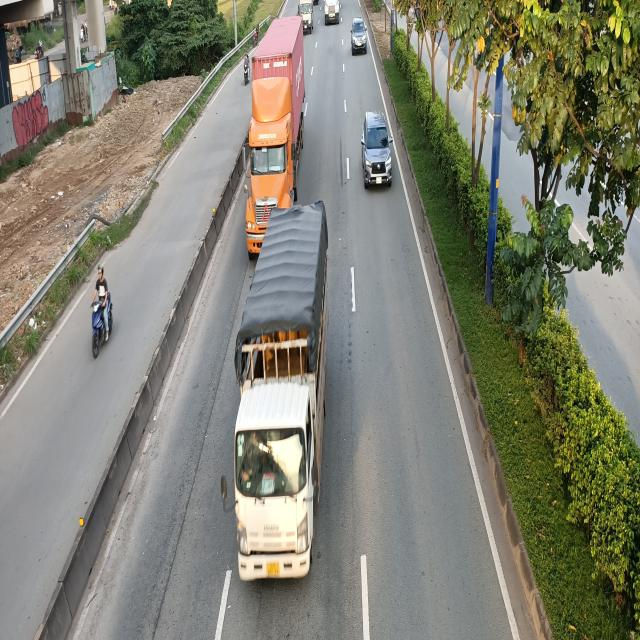car: (360, 111, 393, 189), (351, 18, 367, 54)
container: (243, 18, 307, 260)
truck: (224, 209, 334, 586)
